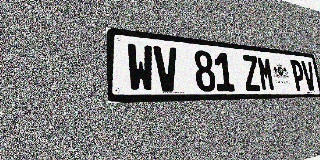1: (213, 52, 235, 91)
8: (193, 50, 217, 91)
M: (257, 56, 275, 91)
P: (290, 60, 306, 91)
V: (153, 46, 180, 92), (301, 61, 317, 91)
W: (126, 43, 155, 92)
Z: (241, 55, 261, 91)
